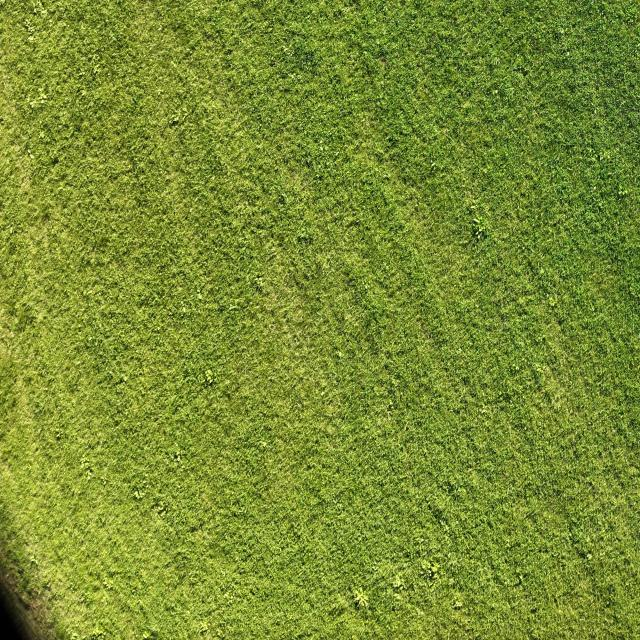rumex: (23, 82, 56, 116), (163, 102, 193, 131), (471, 209, 495, 244), (27, 2, 70, 21), (386, 570, 411, 598), (348, 584, 372, 612), (198, 364, 222, 390), (24, 14, 40, 47), (423, 556, 441, 585), (130, 479, 150, 505), (598, 141, 618, 166), (153, 496, 172, 522), (77, 452, 96, 474), (614, 181, 632, 203)
